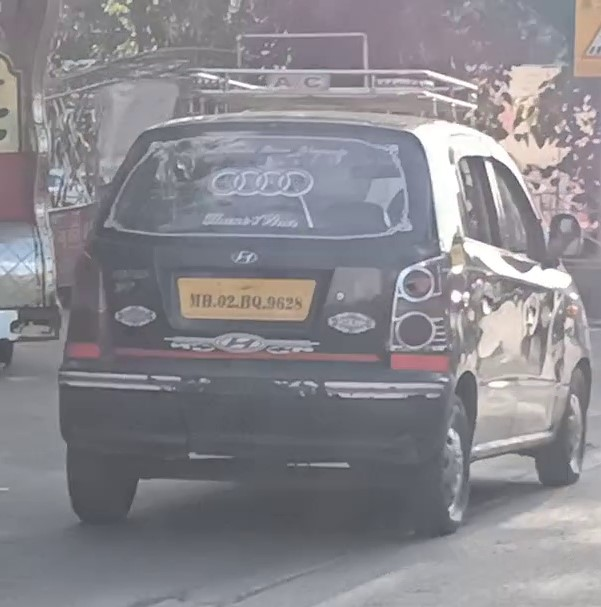MH02BQ9628: (176, 277, 316, 317)
